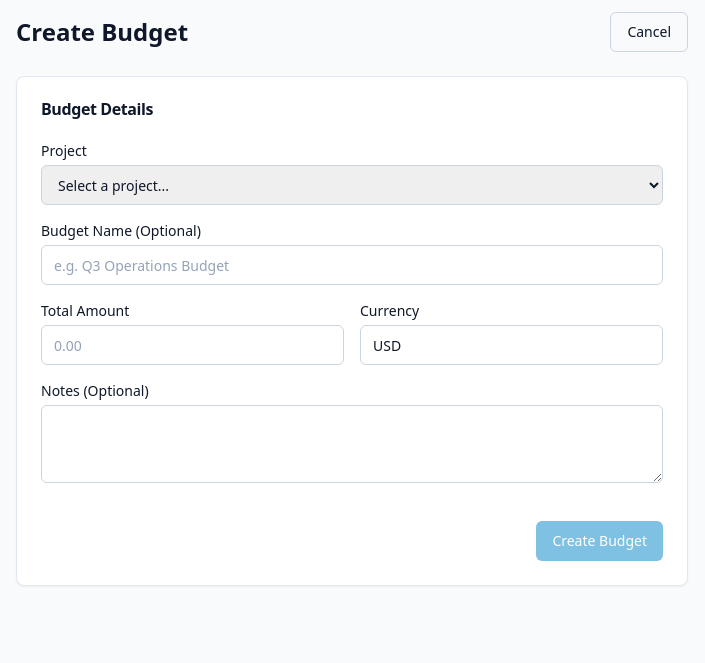
Test case: Budgets Module › Create Page › blocks submission on invalid monetary input
Select "Proj A (PA)" in the dropdown labelled "Project" at {"x": 352, "y": 185}, box [41,165,663,205]
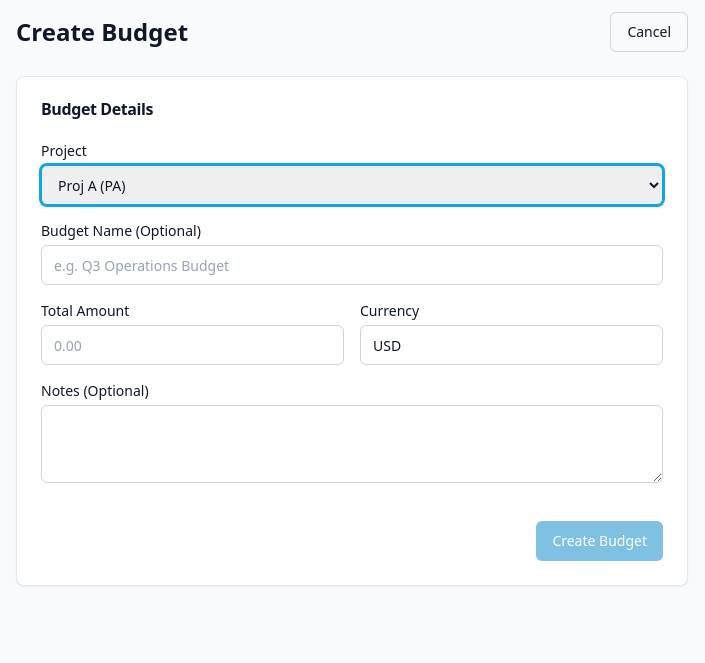
Type "New Budg" into the field labelled "Budget Name (Optional)" at {"x": 352, "y": 265}, box [41,245,663,285]
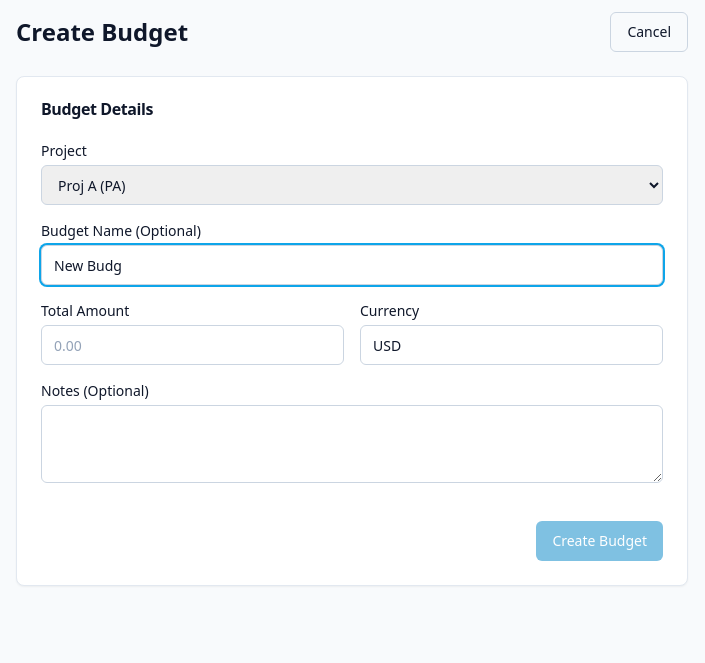
Type "invalid-123" into the number field labelled "Total Amount" at {"x": 192, "y": 345}, box [41,325,344,365]
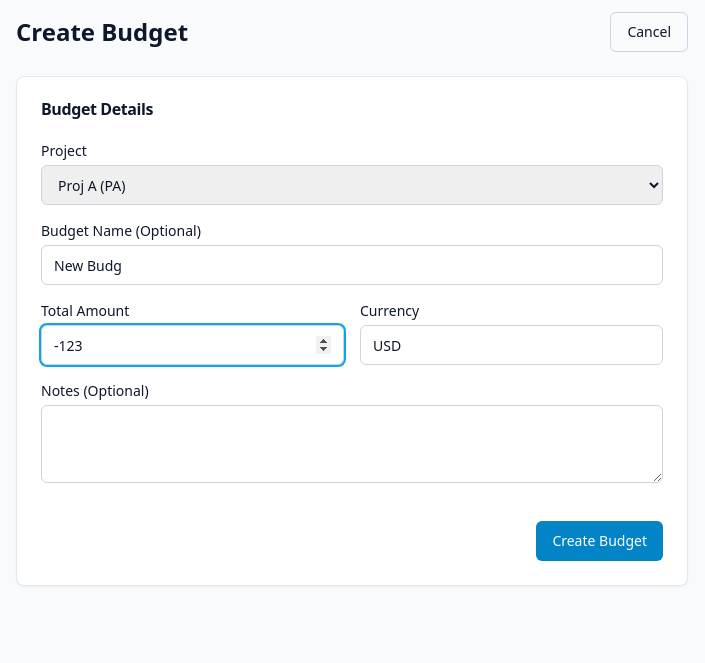
Submit the form named "create budget", box [41,141,663,561]
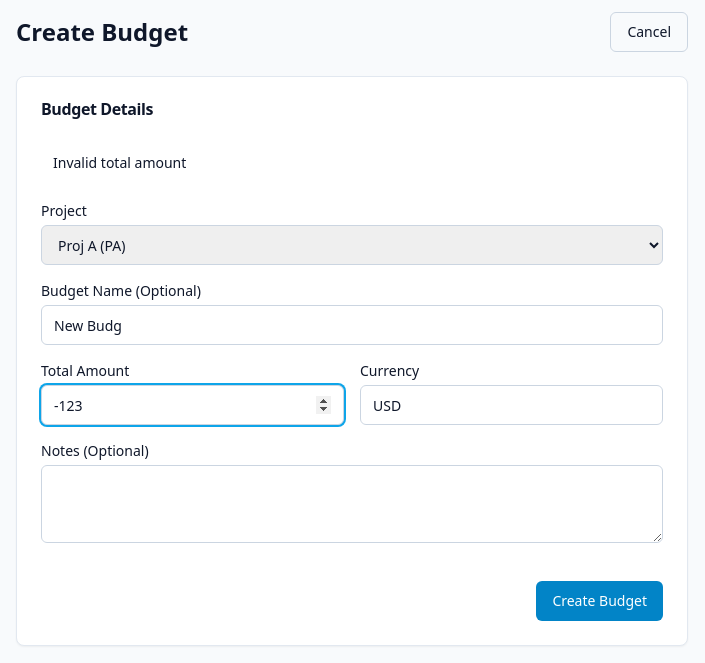
Check: the text "Invalid total amount" is shown, box [53,153,186,172]
